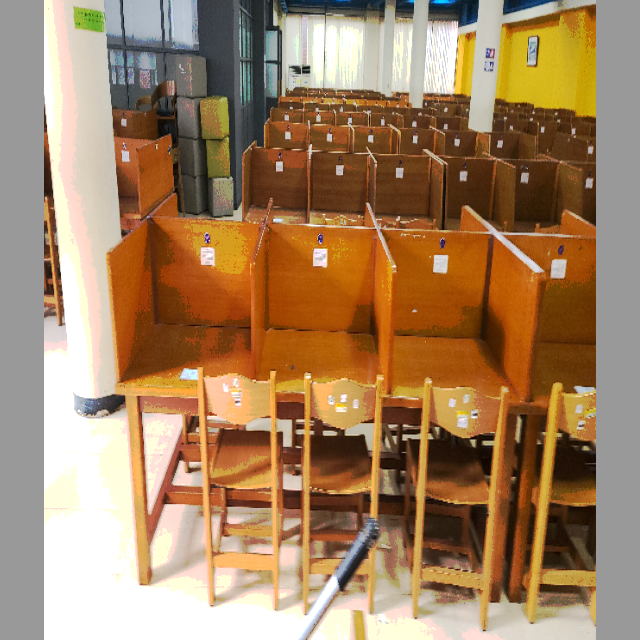empty: (397, 229, 538, 464), (112, 223, 252, 456), (257, 226, 393, 459)
